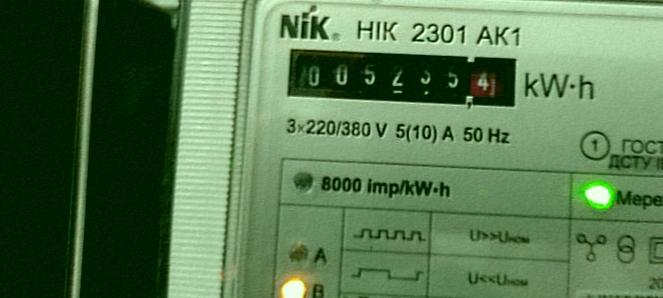0: (303, 63, 320, 89), (332, 63, 348, 88)
2: (387, 62, 404, 89)
3: (414, 61, 432, 87)
4: (471, 65, 491, 95)
5: (442, 62, 459, 91), (360, 62, 375, 87)
screen: (271, 33, 525, 121)
